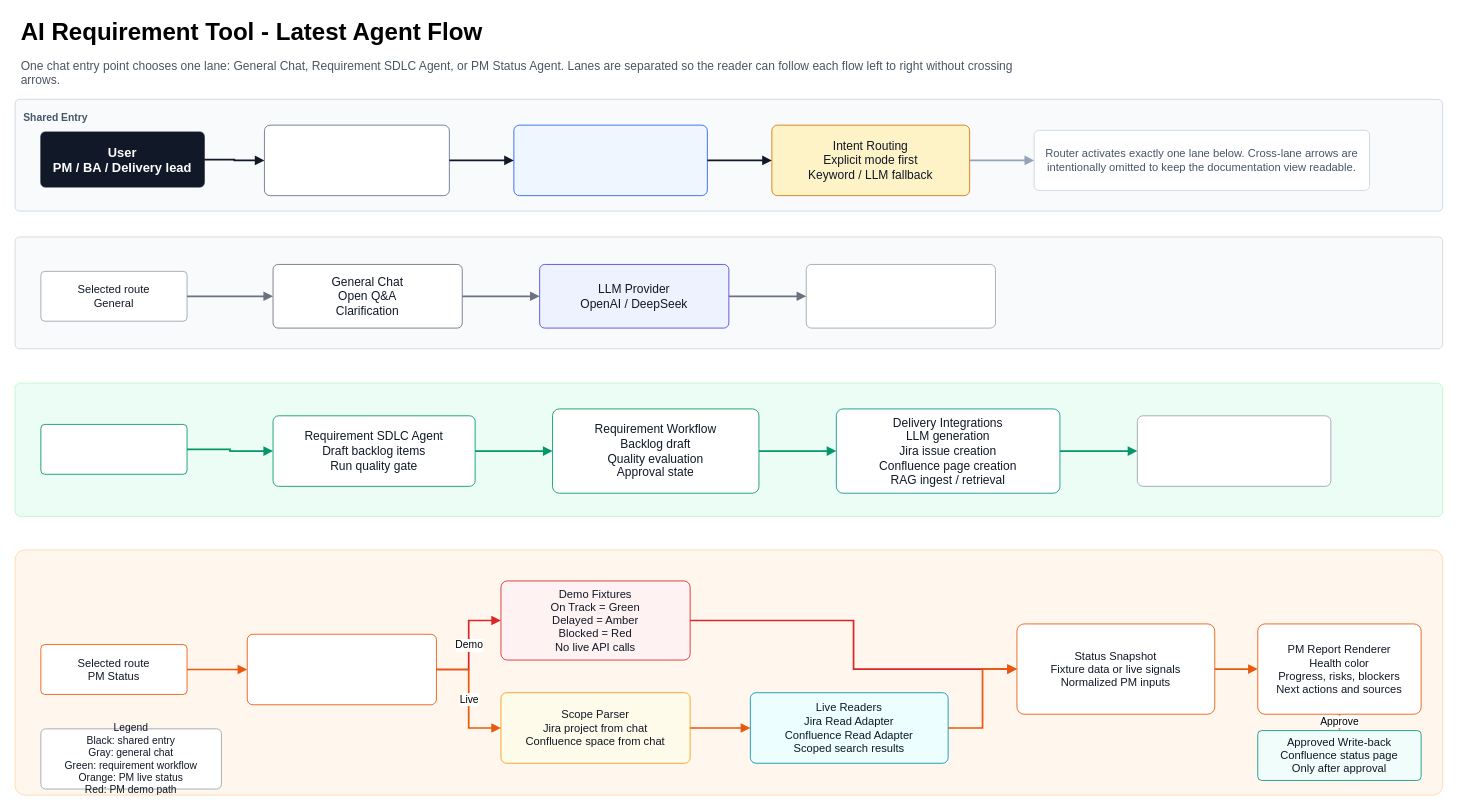
Some shapes in this 1458 by 810 pixel diagram are drawn without their labels. Each missing label, with the box of its shape:
/api/chat Validate request Load conversation state: (513, 124, 707, 196)
Assistant Response Conversation answer: (805, 264, 995, 328)
General Chat Lane: (14, 236, 1443, 349)
PM Status Agent Status request Demo or live path: (246, 633, 436, 705)
PM Status Lane: (14, 549, 1443, 795)
Requirement Output Jira links Confluence page Grounded context: (1136, 415, 1331, 486)
Requirement SDLC Lane: (14, 382, 1443, 516)
Selected route Requirement: (40, 424, 187, 474)
Web UI Agent selector PM demo buttons: (264, 124, 449, 196)
